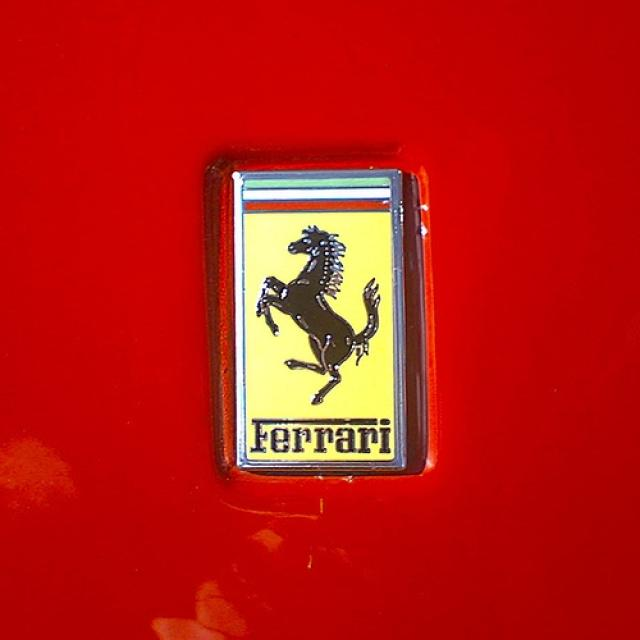ferrari: (235, 174, 398, 467)
